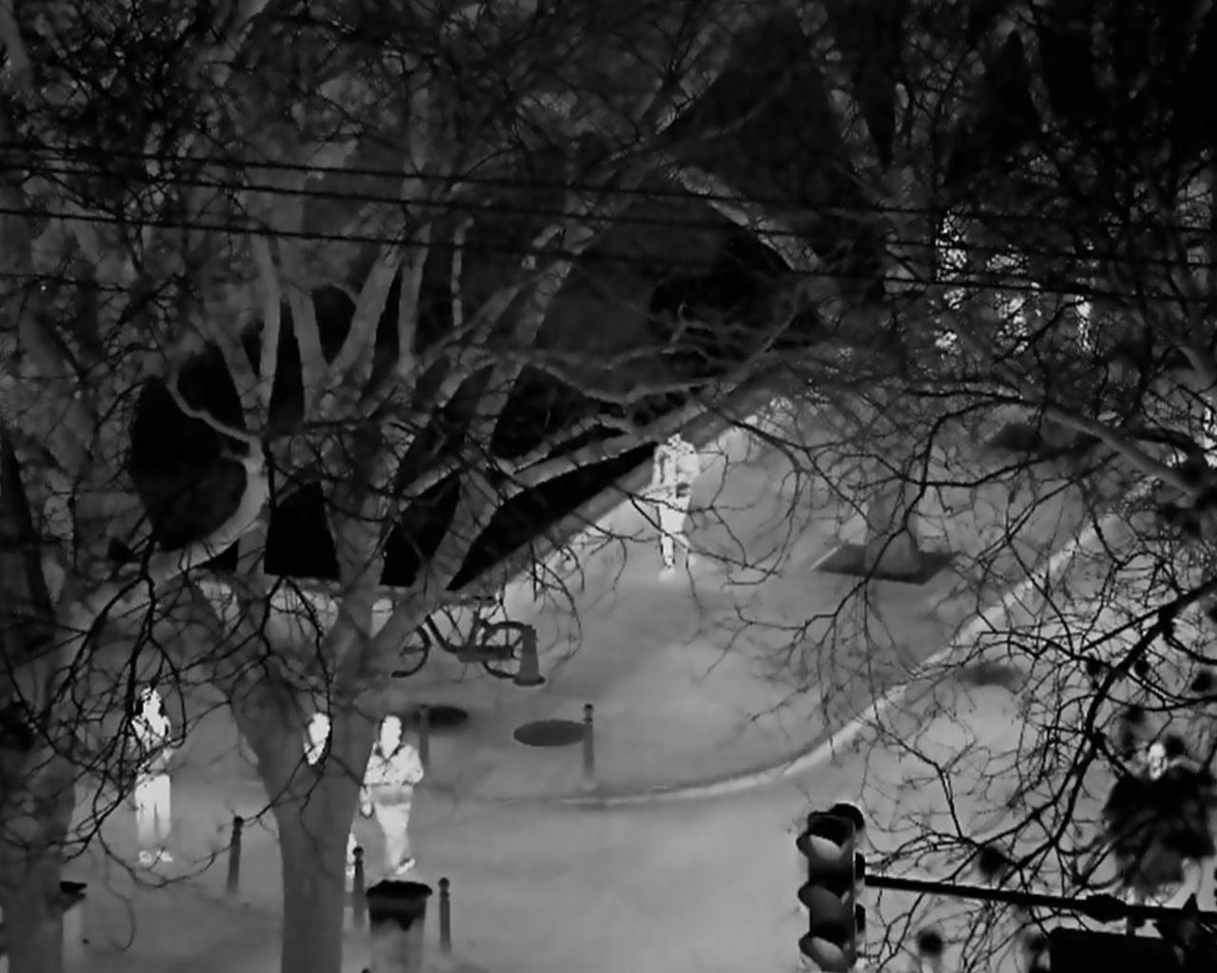person: (362, 713, 423, 873), (638, 434, 704, 579), (126, 688, 178, 866)
